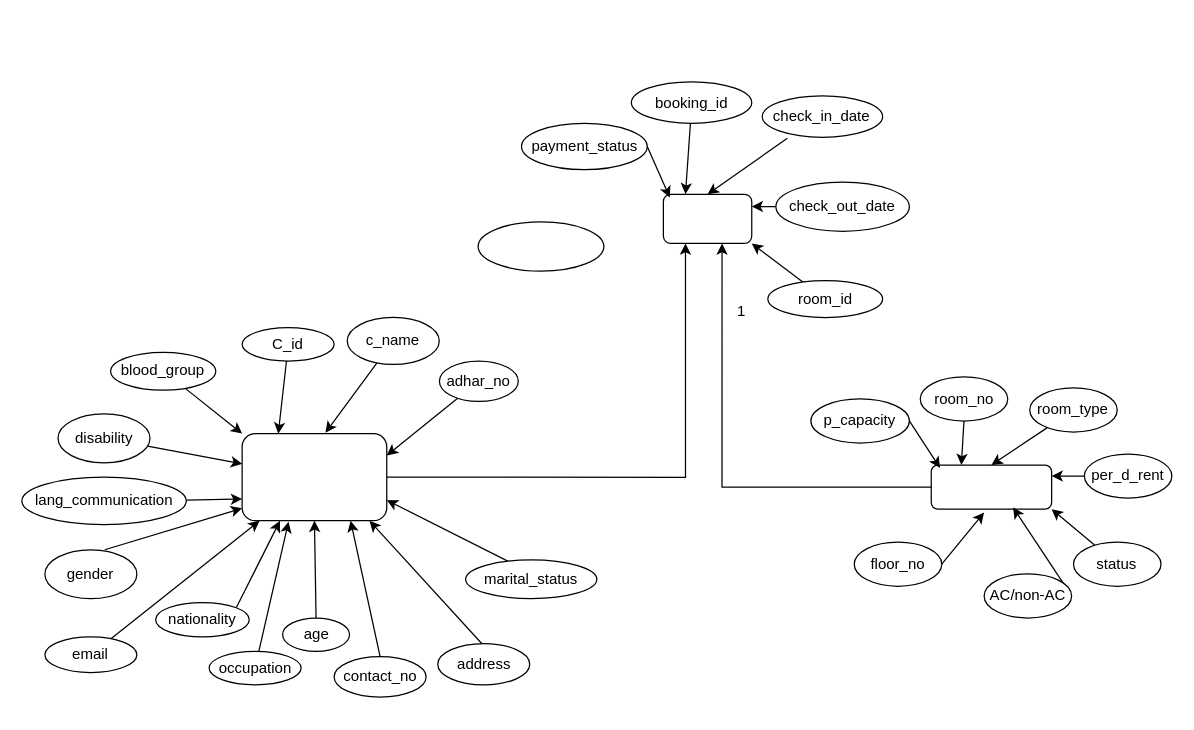
The diagram is 1194 pixels wide and 730 high, and some of its shapes have lost their labels. Here are the shapes that lost their labels. From the top down, the centre of each, then its label:
At pixel 707 218: "Booking".
At pixel 540 246: "no_days_stay".
At pixel 314 476: "Customer".
At pixel 991 486: "Room".
